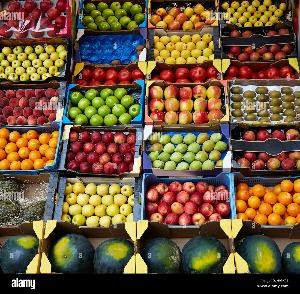apple: (63, 178, 149, 228), (150, 180, 228, 228), (144, 84, 228, 126), (59, 128, 143, 170), (234, 126, 300, 172), (0, 0, 74, 40), (0, 42, 72, 82), (75, 87, 143, 127), (152, 27, 222, 65), (221, 26, 299, 60), (76, 0, 148, 28), (218, 0, 292, 27), (150, 0, 218, 26), (229, 60, 299, 84), (72, 64, 152, 84), (152, 64, 228, 84)
kiwi: (228, 86, 300, 122)
orange: (232, 175, 300, 226), (0, 131, 62, 171)
peach: (0, 82, 68, 128)
pear: (146, 129, 232, 173)
watermelon: (136, 225, 231, 273), (44, 229, 136, 272), (234, 230, 300, 276), (0, 227, 38, 274)
